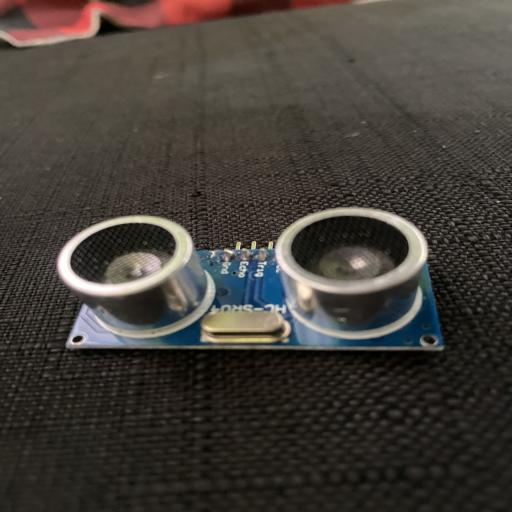Ultrasonic Sensor: (56, 205, 444, 354)
